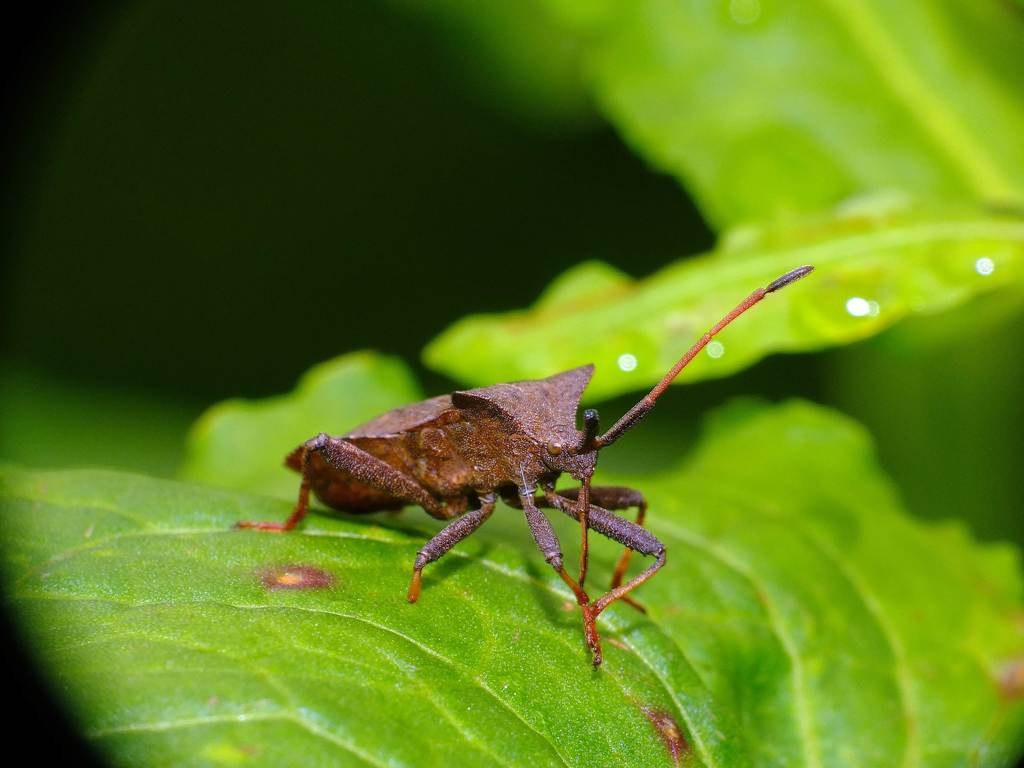insect: (227, 265, 814, 668)
